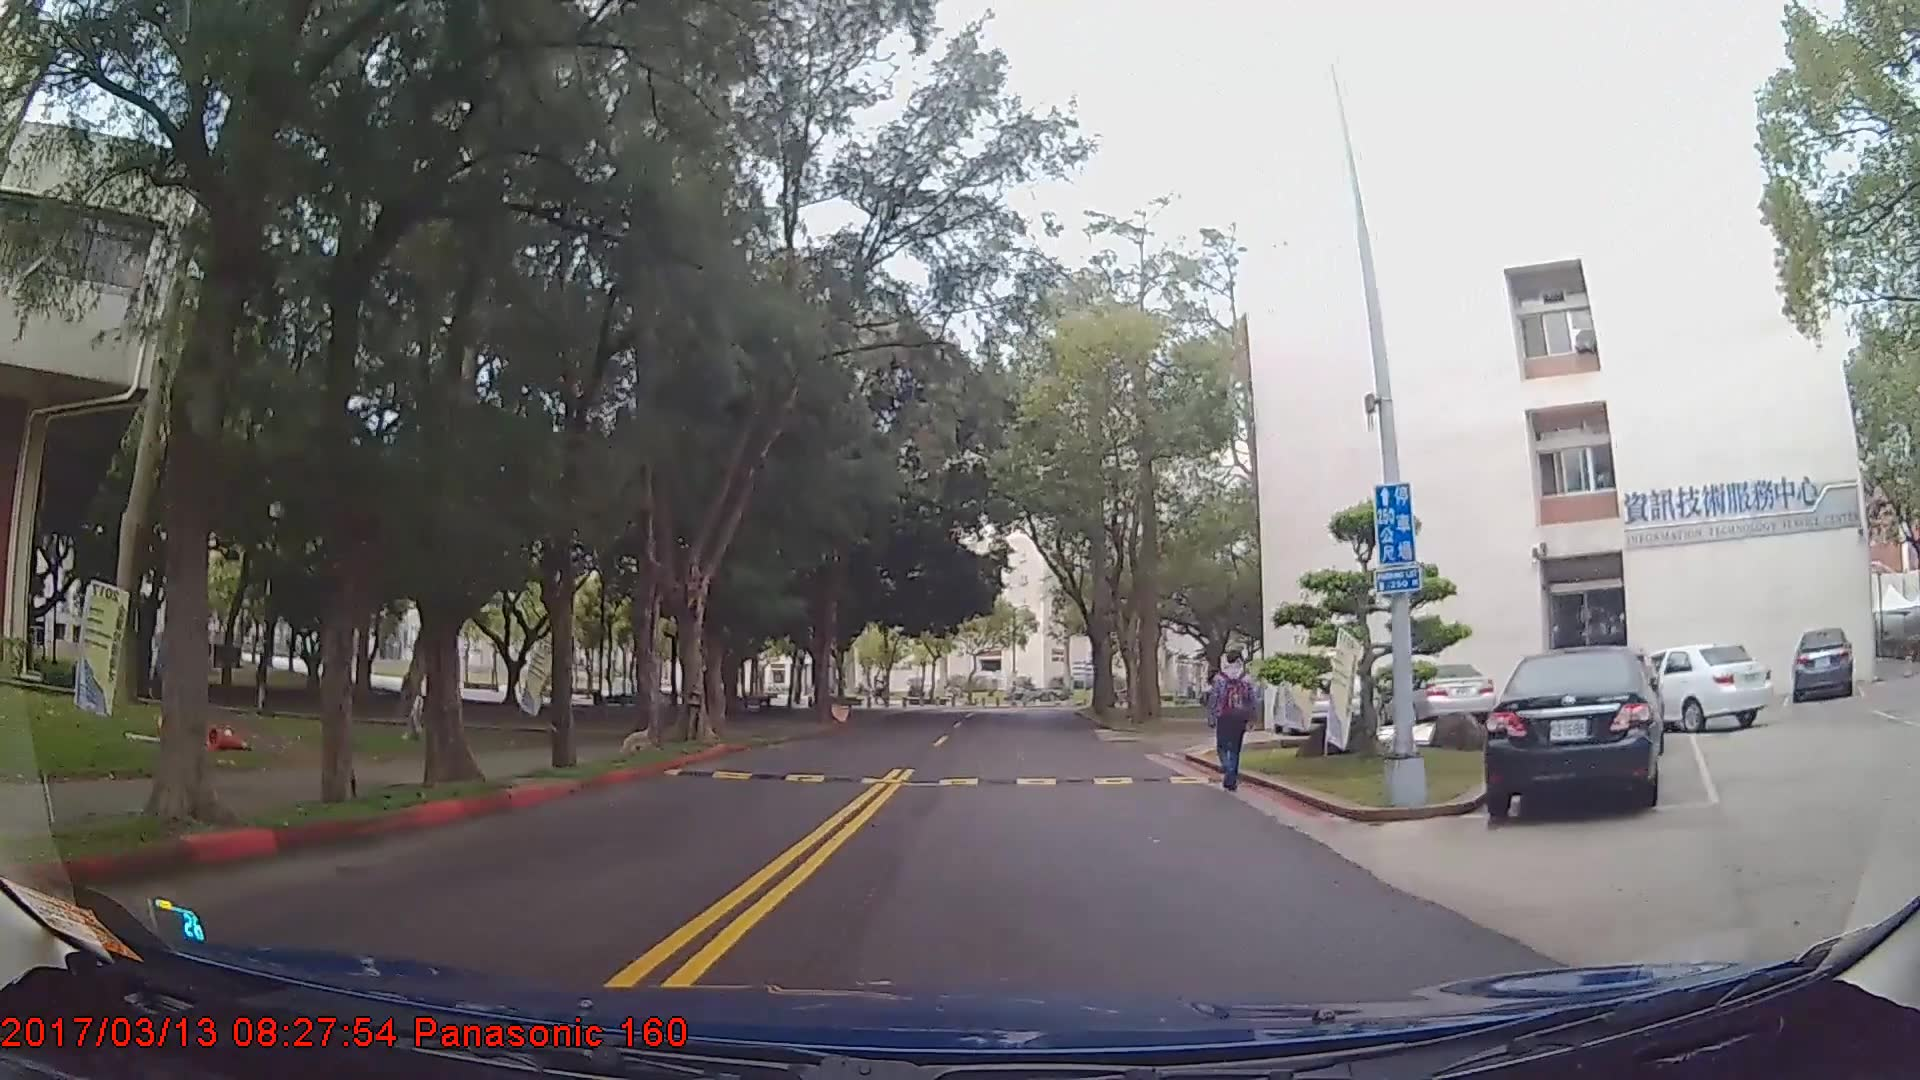pedestrian: (1201, 654, 1265, 799)
vehicle: (1487, 644, 1663, 823), (1641, 642, 1772, 733), (1377, 658, 1494, 726), (1792, 628, 1853, 704)
